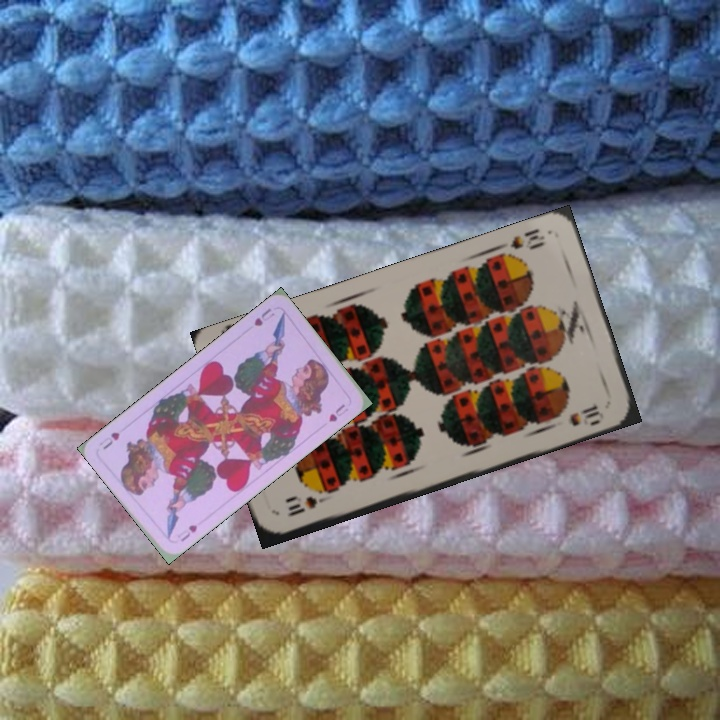HU: (250, 304, 277, 329), (176, 520, 200, 545)
S10: (493, 224, 548, 253), (282, 489, 334, 519)
